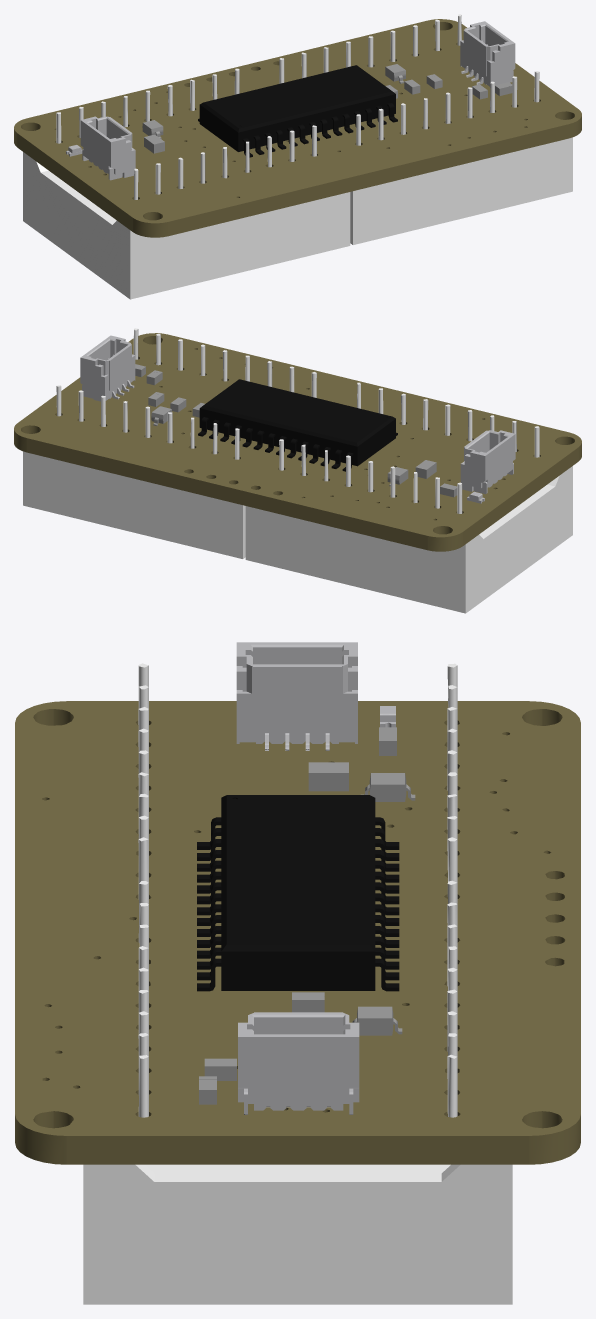
Rendered from ada-1910.glb.
The picture shows the model from 3 angles, top to bottom: view 1: azimuth 30°, elevation 25°; view 2: azimuth 150°, elevation 25°; view 3: azimuth 270°, elevation 25°; orthographic projection. The views are drawn at different scales.
Parts seen in each view (by area): view 1: 0.16666666666666666_0.16666666666666666_0.08333333333333333_, 1_1_1_0.85, 0_0_0_0, 0.5833333333333334_0.5833333333333334_0.5833333333333334_0.8, 0.3333333333333333_0.3333333333333333_0.3333333333333333_0; view 2: 0.16666666666666666_0.16666666666666666_0.08333333333333333_, 1_1_1_0.85, 0_0_0_0, 0.5833333333333334_0.5833333333333334_0.5833333333333334_0.8, 0.3333333333333333_0.3333333333333333_0.3333333333333333_0; view 3: 0.16666666666666666_0.16666666666666666_0.08333333333333333_, 1_1_1_0.85, 0_0_0_0, 0.5833333333333334_0.5833333333333334_0.5833333333333334_0.8, 0.3333333333333333_0.3333333333333333_0.3333333333333333_0.
Boxes of the visible parts, left/top/right/bottom form: 0.16666666666666666_0.16666666666666666_0.08333333333333333_: left=14, top=19, right=581, bottom=237; 1_1_1_0.85: left=23, top=14, right=572, bottom=299; 0_0_0_0: left=198, top=65, right=397, bottom=157; 0.5833333333333334_0.5833333333333334_0.5833333333333334_0.8: left=66, top=21, right=515, bottom=180; 0.3333333333333333_0.3333333333333333_0.3333333333333333_0: left=142, top=64, right=512, bottom=153; 0.16666666666666666_0.16666666666666666_0.08333333333333333_: left=14, top=333, right=581, bottom=551; 1_1_1_0.85: left=23, top=328, right=572, bottom=613; 0_0_0_0: left=198, top=379, right=397, bottom=471; 0.5833333333333334_0.5833333333333334_0.5833333333333334_0.8: left=80, top=335, right=515, bottom=503; 0.3333333333333333_0.3333333333333333_0.3333333333333333_0: left=135, top=364, right=457, bottom=497; 0.16666666666666666_0.16666666666666666_0.08333333333333333_: left=15, top=701, right=580, bottom=1164; 1_1_1_0.85: left=83, top=663, right=512, bottom=1304; 0_0_0_0: left=197, top=795, right=399, bottom=991; 0.5833333333333334_0.5833333333333334_0.5833333333333334_0.8: left=236, top=642, right=395, bottom=1114; 0.3333333333333333_0.3333333333333333_0.3333333333333333_0: left=199, top=727, right=415, bottom=1104.
Bounding box in the file's own units: 5.08 × 1.36 × 2.79.
